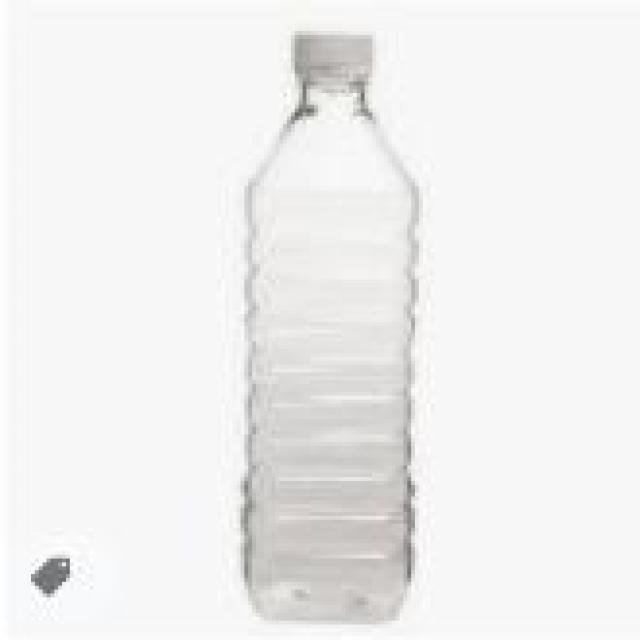bottle: (229, 18, 427, 634)
